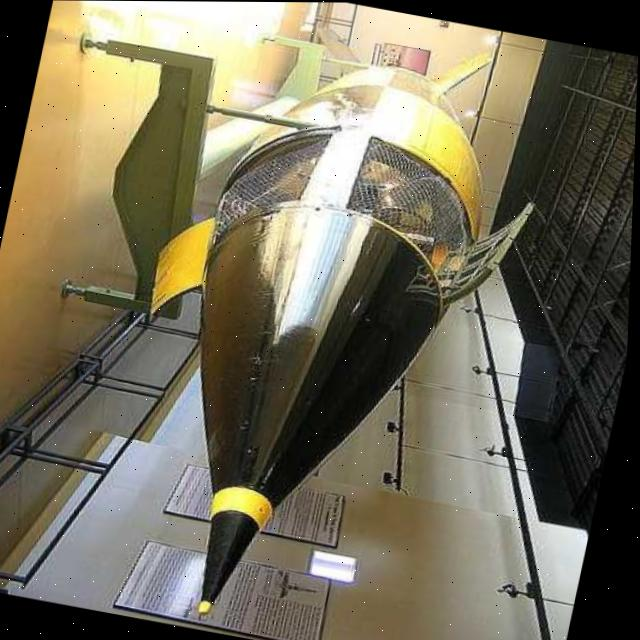missile: (109, 19, 555, 640)
